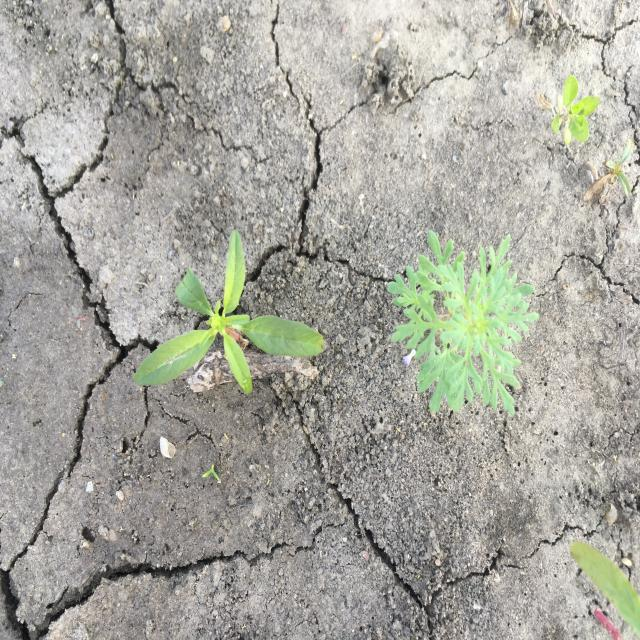Ragweed: (385, 229, 541, 422)
Waterhemp: (132, 227, 326, 396)
